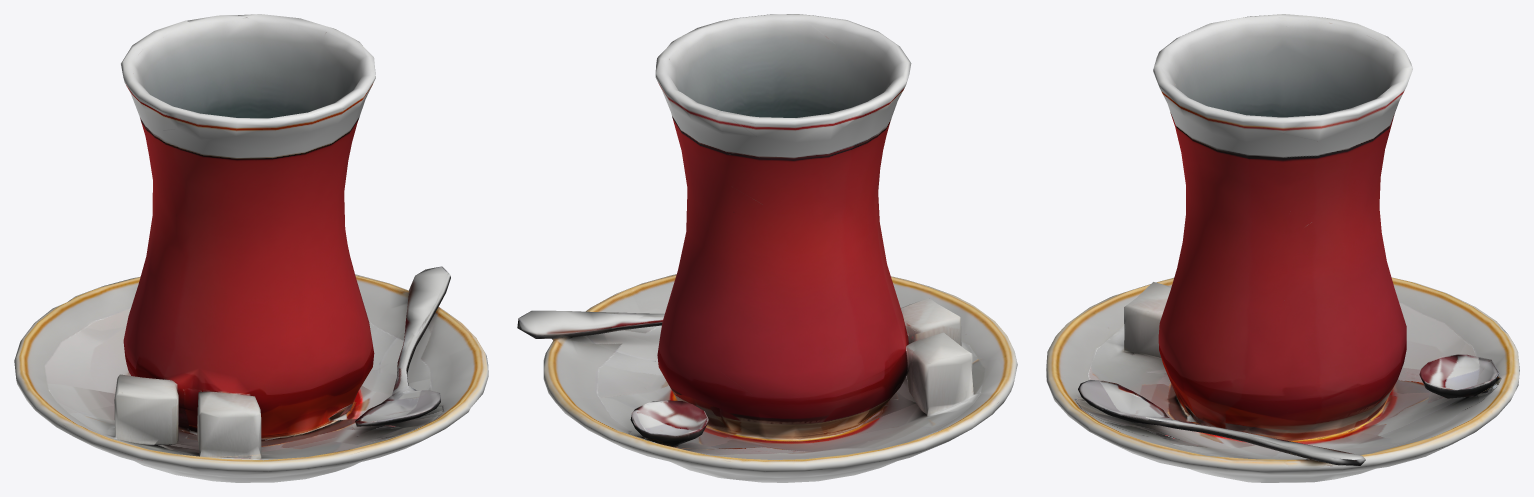
File: caybardaği.fbx
3 renders of one model, left to right at view 1: azimuth 30°, elevation 25°; view 2: azimuth 150°, elevation 25°; view 3: azimuth 270°, elevation 25°, orthographic.
Parts seen in each view (by area): view 1: Mesh_0; view 2: Mesh_0; view 3: Mesh_0.
Part boxes in pixels (x1,y1,x2,y2): Mesh_0: (14, 14, 488, 482); Mesh_0: (517, 14, 1017, 482); Mesh_0: (1046, 14, 1519, 482).
Bounding box in the file's own units: 191 × 150 × 181.
1 material, 1 textured.
